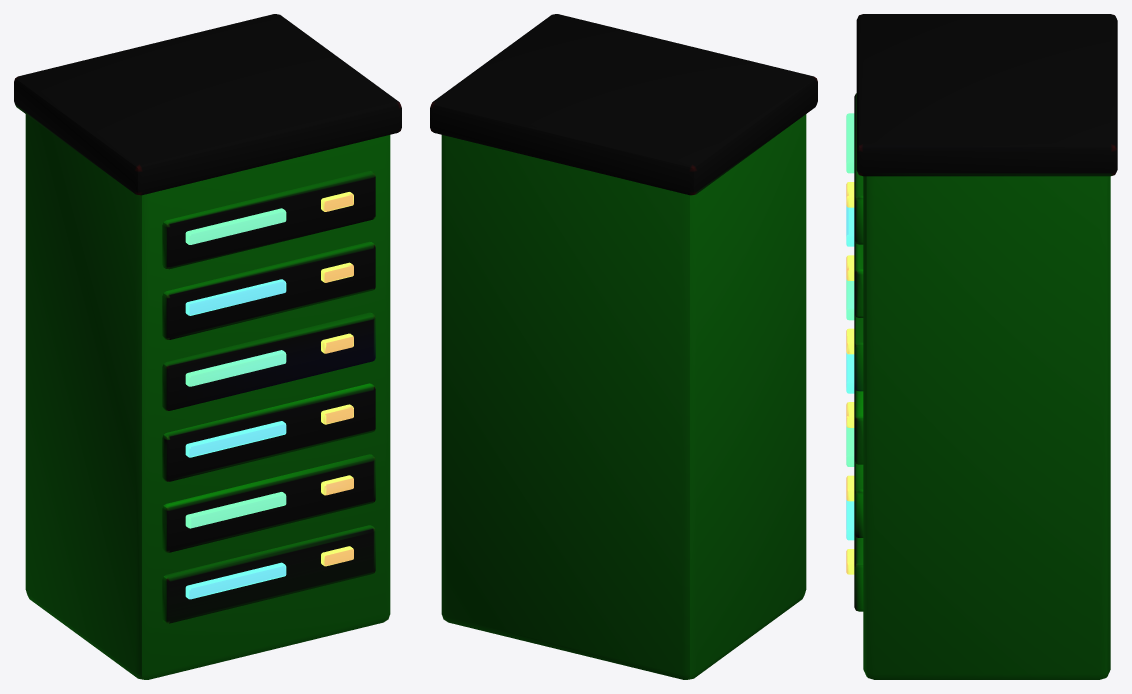
Rendered from hero_server_rack.glb.
3 views of the same model, side by side, from view 1: azimuth 30°, elevation 25°; view 2: azimuth 150°, elevation 25°; view 3: azimuth 270°, elevation 25° (orthographic). The views are drawn at different scales.
Parts seen in each view (by area): view 1: HeroServerRack; view 2: HeroServerRack; view 3: HeroServerRack.
Boxes of the visible parts, bbox=[...] form: HeroServerRack: bbox=[14, 14, 401, 679]; HeroServerRack: bbox=[430, 14, 817, 679]; HeroServerRack: bbox=[846, 14, 1117, 679].
Bounding box in the file's own units: 1.42 × 2.65 × 1.2.
